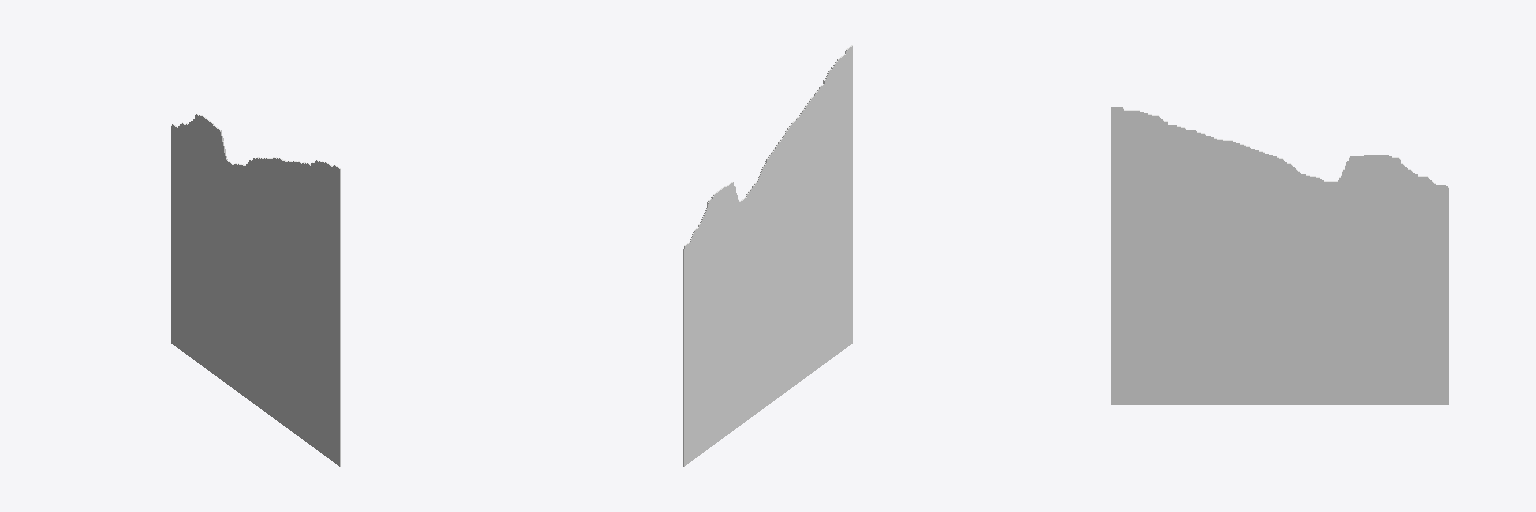
Rendered from BackgroundLayer3.obj.
The picture shows the model from 3 angles: view 1: azimuth 30°, elevation 25°; view 2: azimuth 150°, elevation 25°; view 3: azimuth 270°, elevation 25°; orthographic projection.
Visible parts, largest first — view 1: object 1; view 2: object 1; view 3: object 1.
Boxes of the visible parts, x1,y1,x2,y2 form: object 1: [171, 114, 340, 466]; object 1: [683, 45, 852, 466]; object 1: [1111, 107, 1448, 404].
Size of the model in its own units: 0.1 by 24.9 by 25.6.